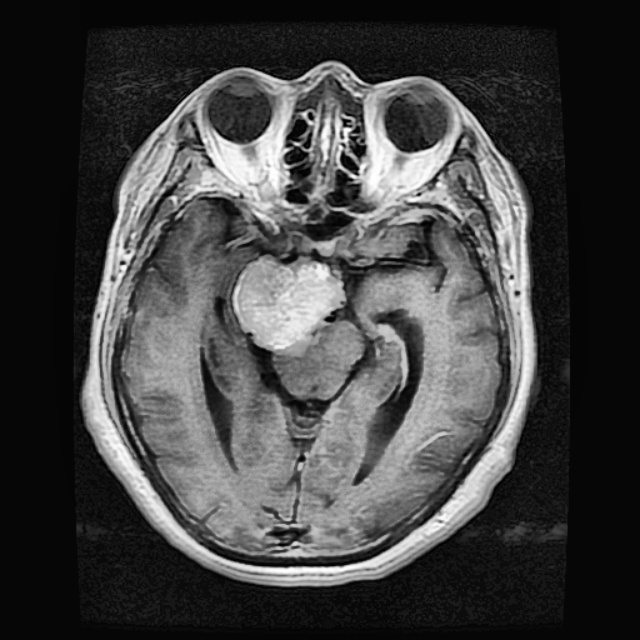Pituitary: (233, 252, 342, 355)
